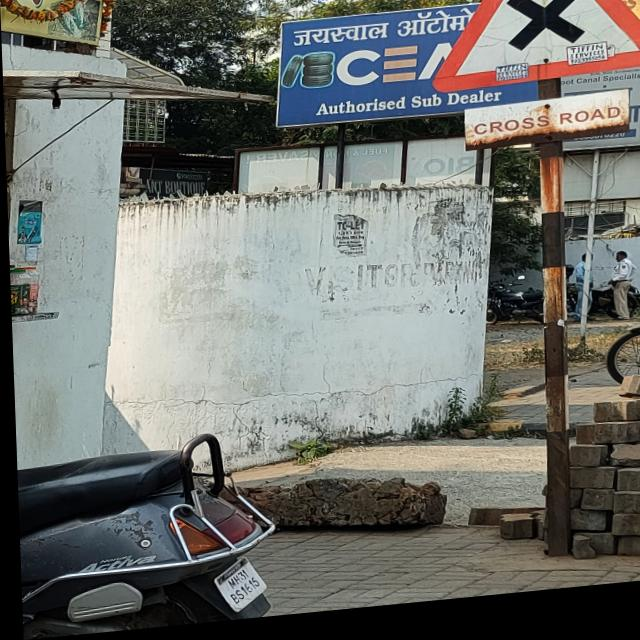CROSS_ROAD: (413, 0, 640, 99)
